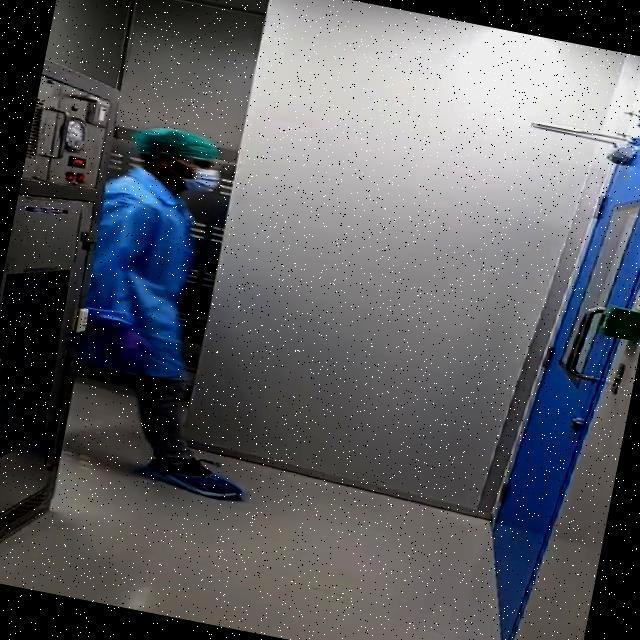apron: (95, 324, 149, 370)
